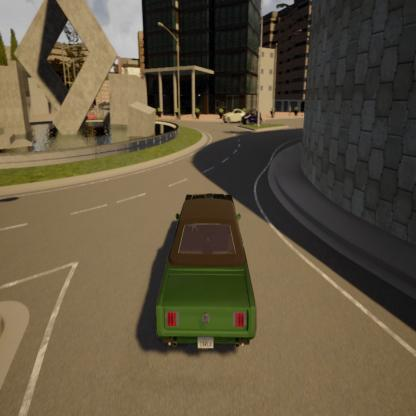Cars: (152, 184, 262, 364), (223, 105, 248, 126), (242, 107, 264, 129)
